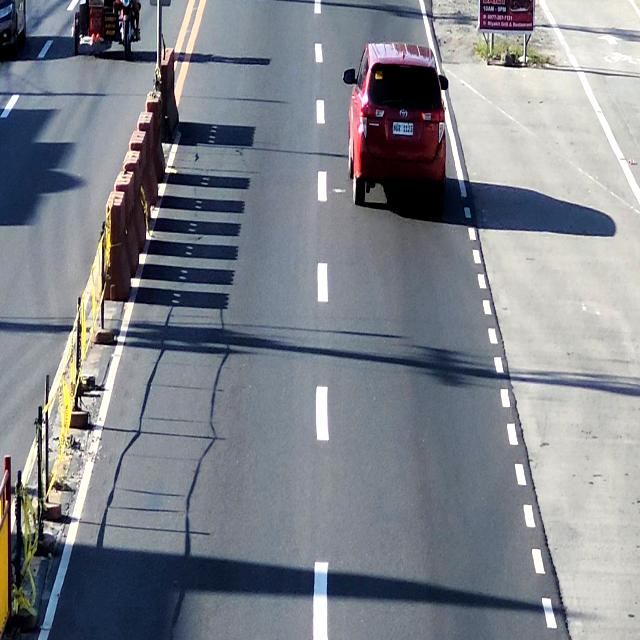Car: (348, 42, 453, 218)
License-Plate: (392, 120, 412, 136)
